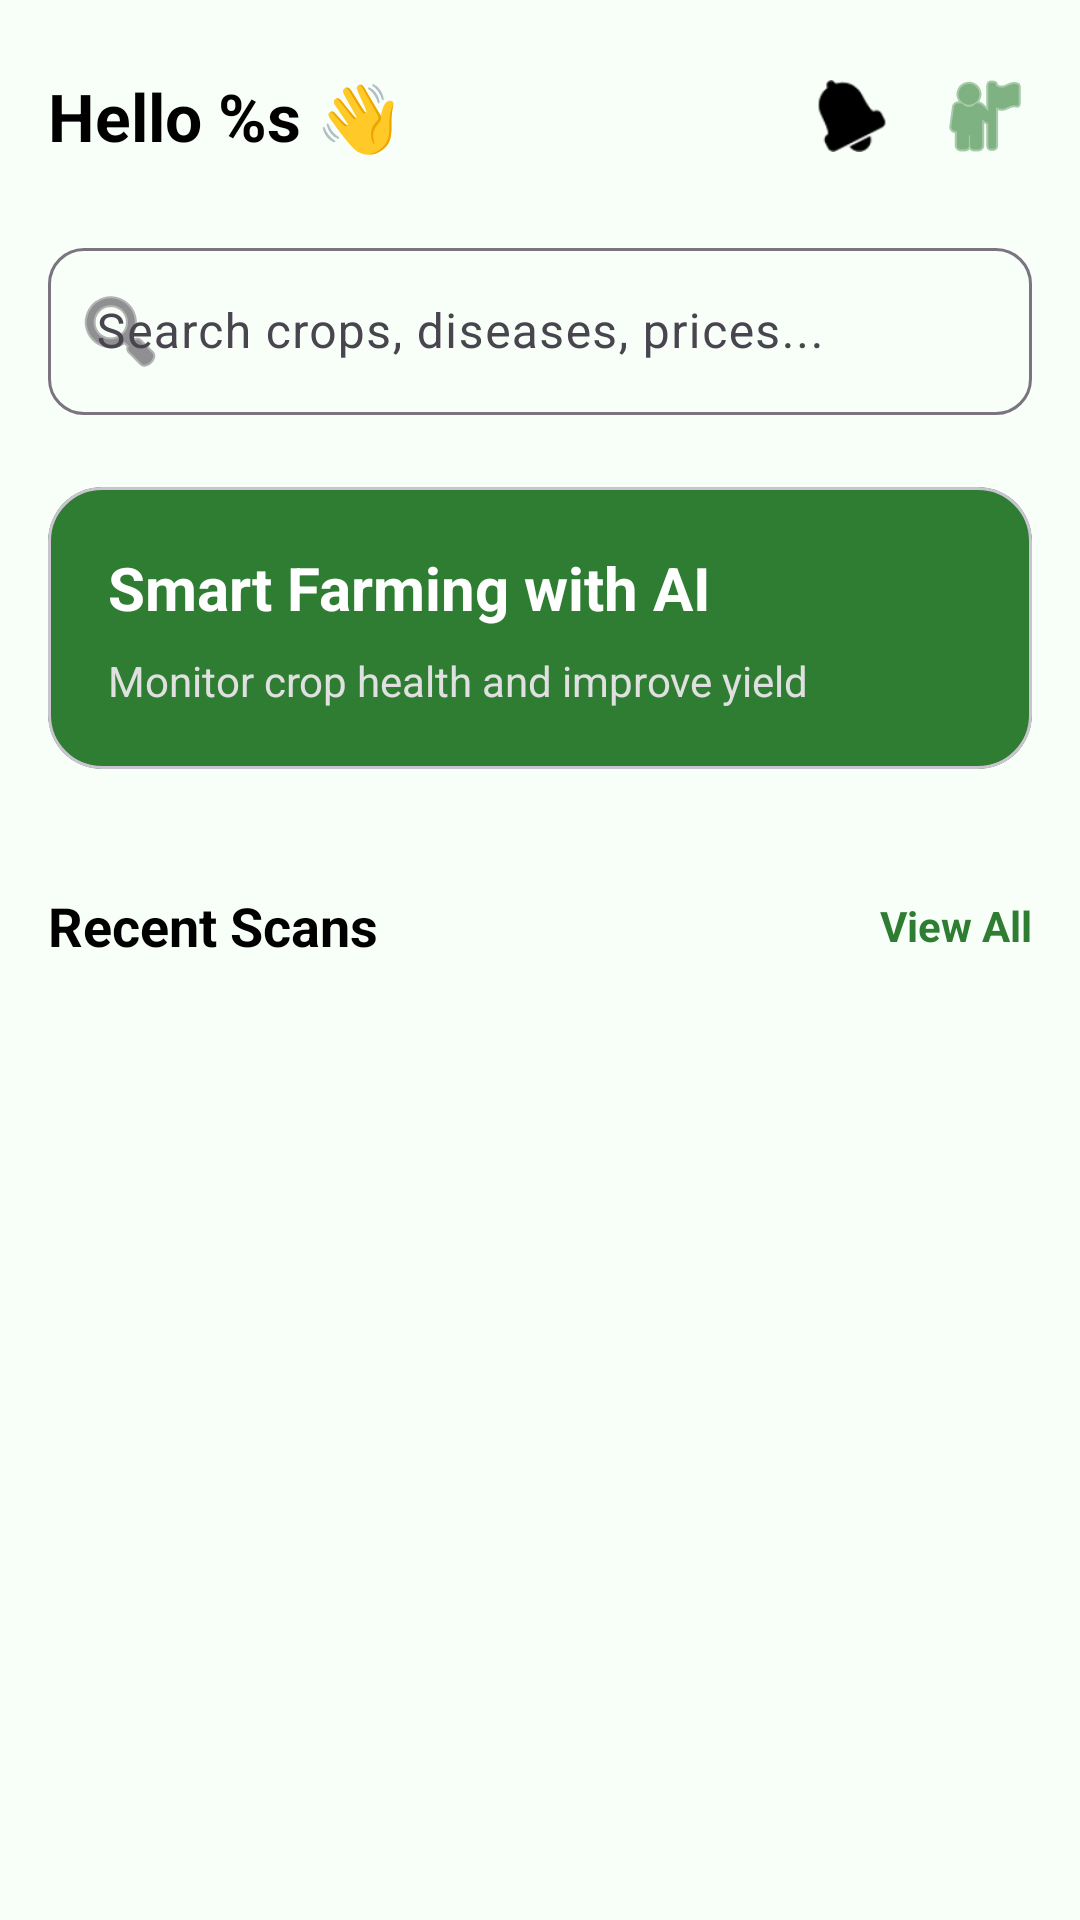

Where icons sit on this 1080 × 1920 app screen, as (x1, y1, x2, y2):
Notifications: (818, 80, 886, 152)
Profile: (949, 80, 1021, 152)
